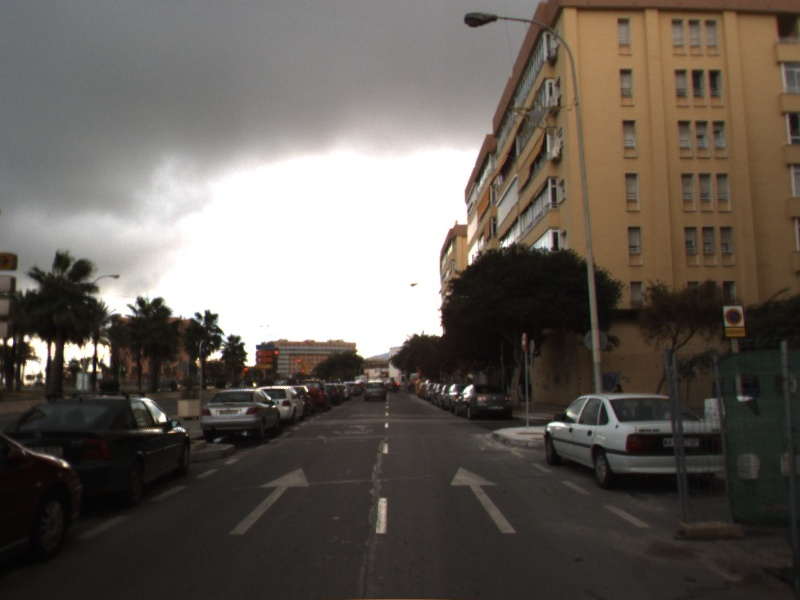STRAIGHT: (228, 465, 312, 536), (449, 465, 520, 535)
